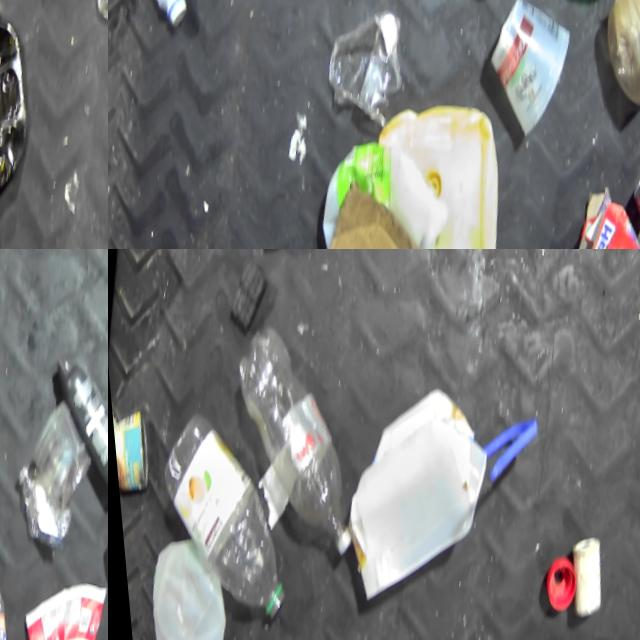can: (108, 400, 154, 499), (606, 151, 640, 249)
milk_jug: (315, 373, 503, 620), (299, 127, 454, 249), (125, 530, 231, 640)
non_white_jug: (330, 88, 517, 249)
plastic_bottle: (195, 319, 378, 561), (124, 403, 306, 623), (87, 345, 108, 507)
